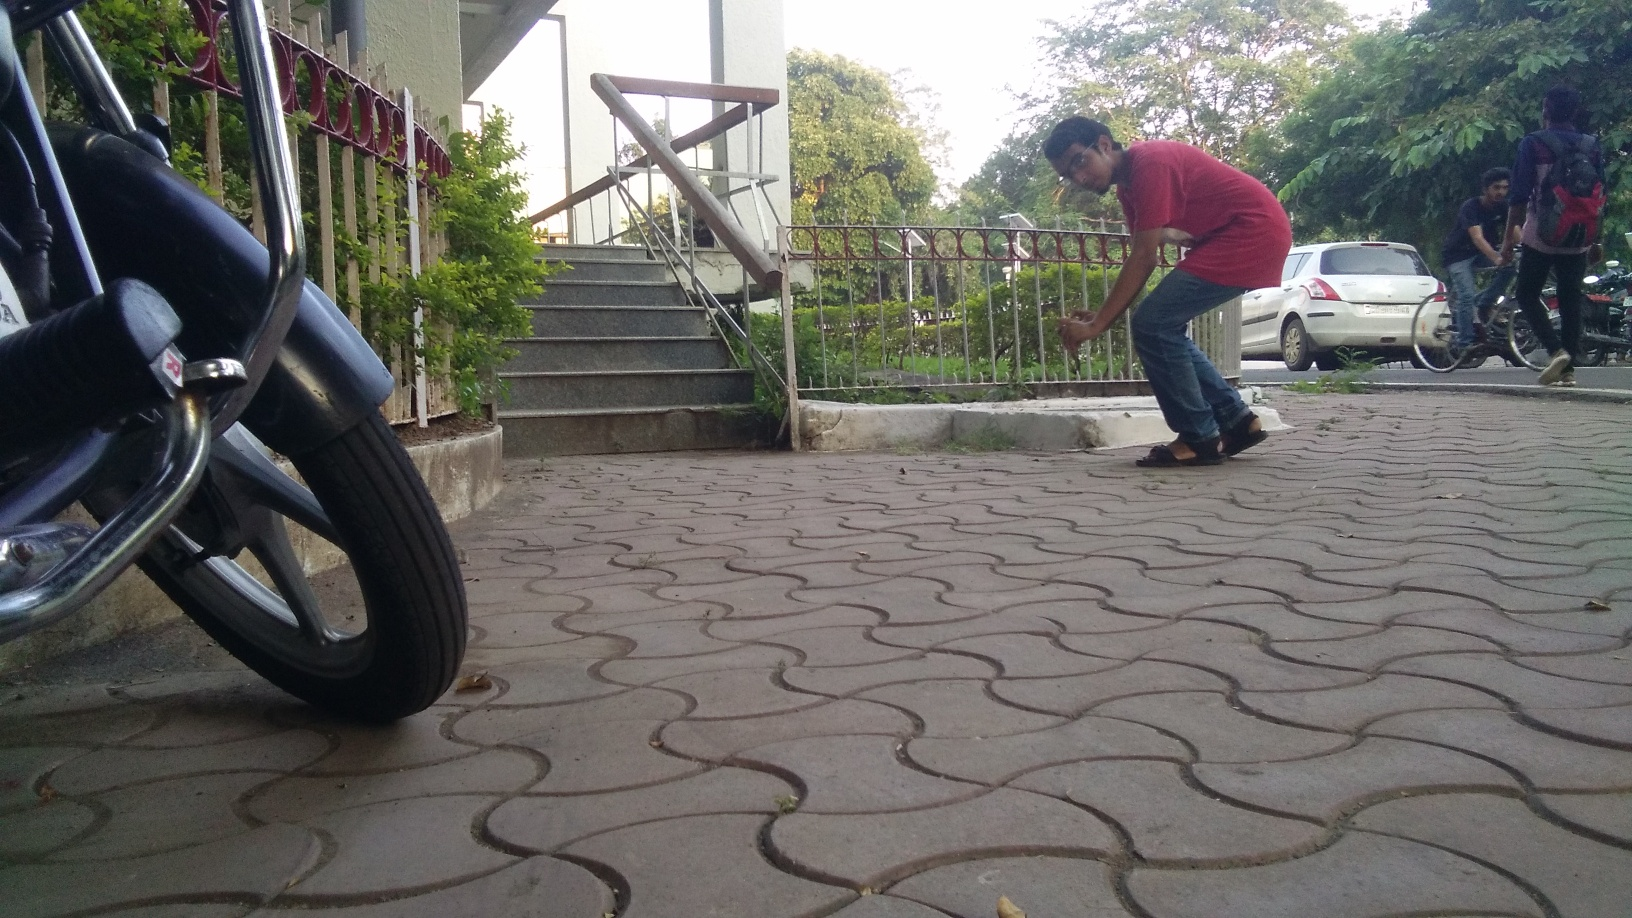stairs_up: (474, 230, 775, 467)
